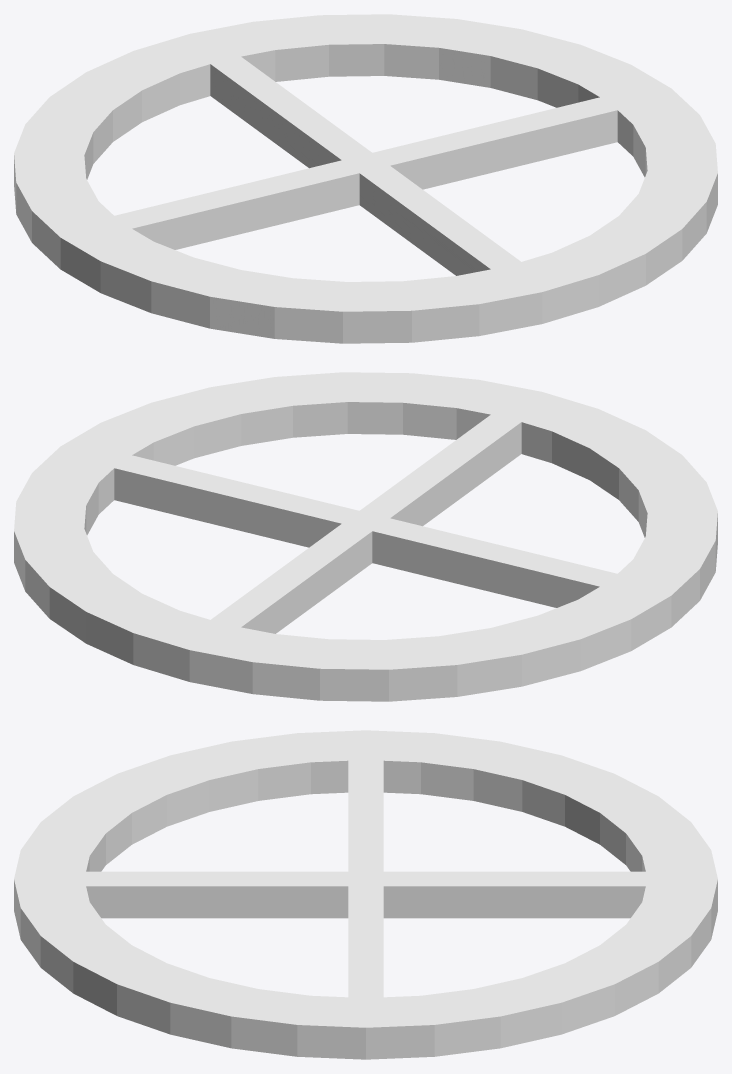
Rendered from propeller.obj.
3 renders of one model, top to bottom at view 1: azimuth 30°, elevation 25°; view 2: azimuth 150°, elevation 25°; view 3: azimuth 270°, elevation 25°, orthographic.
Parts seen in each view (by area): view 1: 円柱.003; view 2: 円柱.003; view 3: 円柱.003.
Boxes of the visible parts, x1,y1,x2,y2 form: 円柱.003: [14, 14, 717, 343]; 円柱.003: [14, 372, 717, 701]; 円柱.003: [14, 730, 717, 1059].
Size of the model in its own units: 2 by 0.1 by 2.
1 material, 1 textured.
